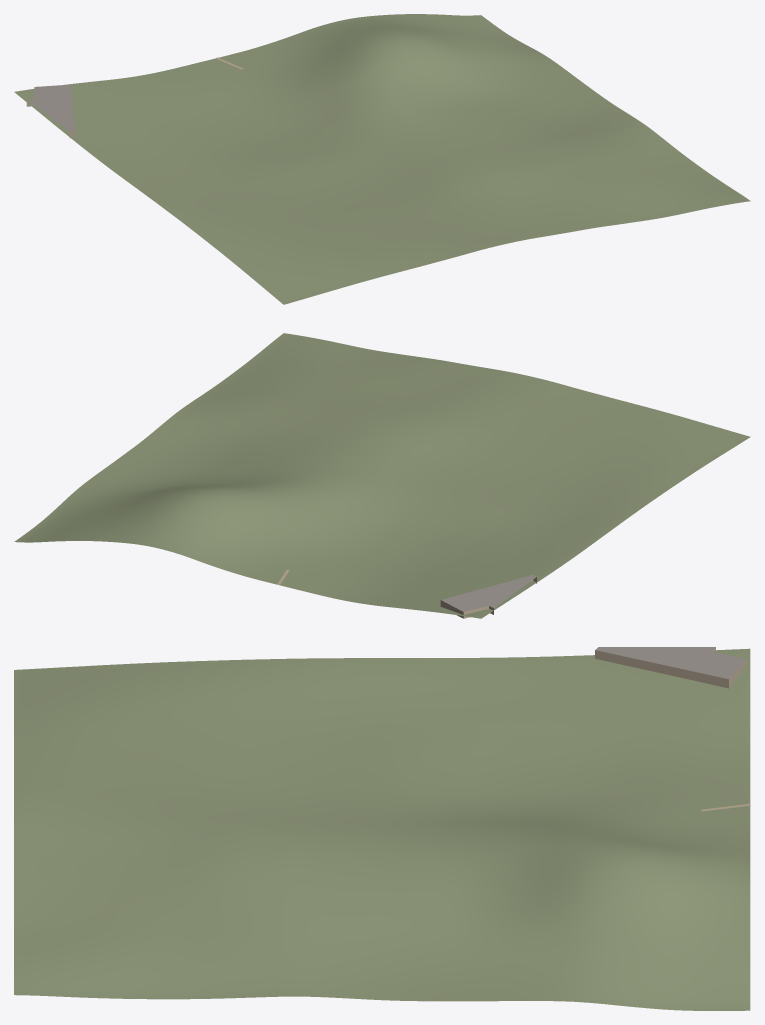
3 views of the same model, one above another, from view 1: azimuth 30°, elevation 25°; view 2: azimuth 150°, elevation 25°; view 3: azimuth 270°, elevation 25° (orthographic). The views are drawn at different scales.
Visible parts, largest first — view 1: ground, roofs; view 2: ground, roofs; view 3: ground, roofs, walls.
Part boxes in pixels (<box>): ground: <box>14,14,750,304</box>; roofs: <box>27,84,75,131</box>; ground: <box>14,333,750,618</box>; roofs: <box>441,575,536,611</box>; ground: <box>14,648,750,1010</box>; roofs: <box>595,647,746,679</box>; walls: <box>595,647,746,688</box>.
Bounding box in the file's own units: 250 × 22.28 × 250.
